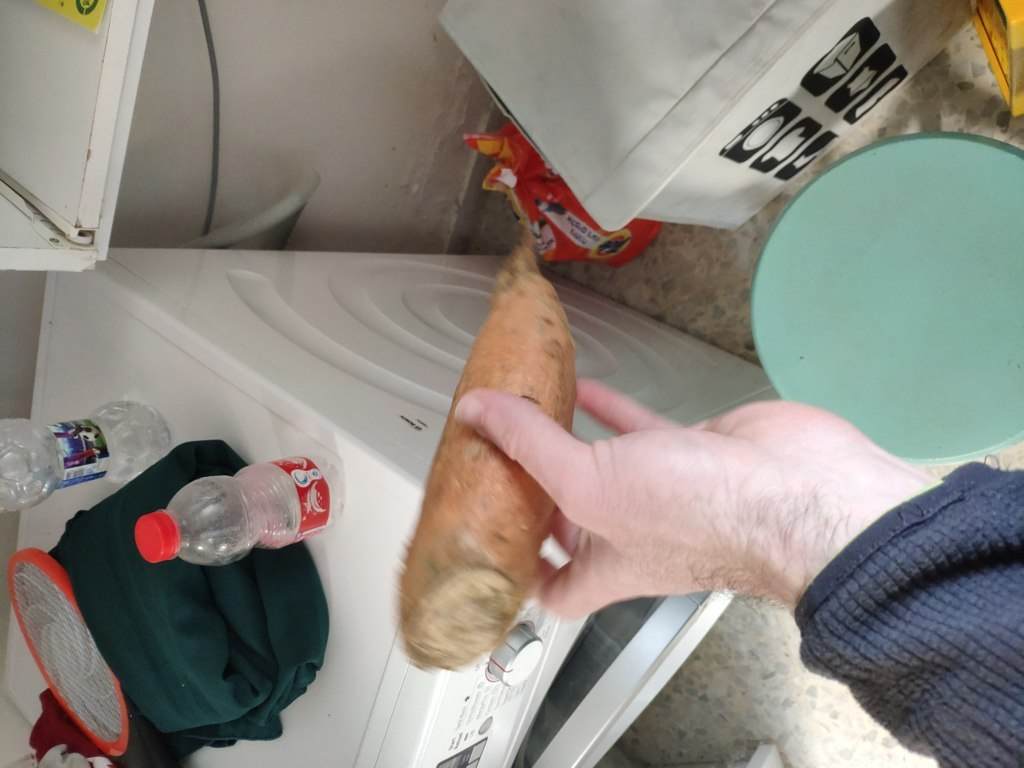Sweet Potato: (422, 230, 547, 665)
